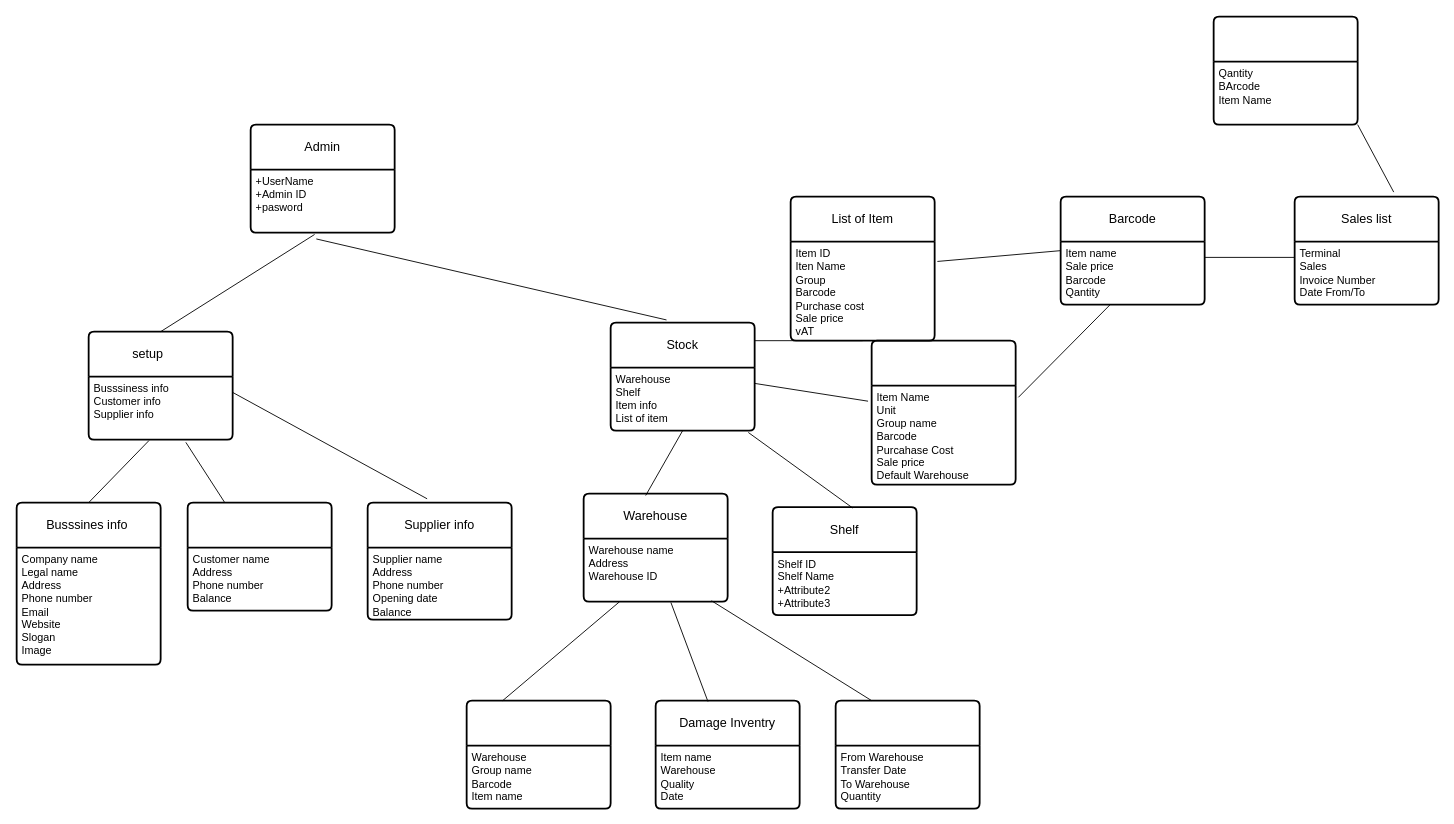
Some shapes in this 1454 by 824 pixel diagram are drawn without their labels. The shapes that lost their labels are listed below. From the top down, each one's box as (x1, y1, x2, y2) in pixels, then its label:
(1212, 15, 1358, 125): TAX invoice
(870, 339, 1016, 485): Item info
(186, 501, 332, 611): Customer info
(465, 699, 611, 809): Expiry Inventry
(834, 699, 980, 809): Stock Transfer
